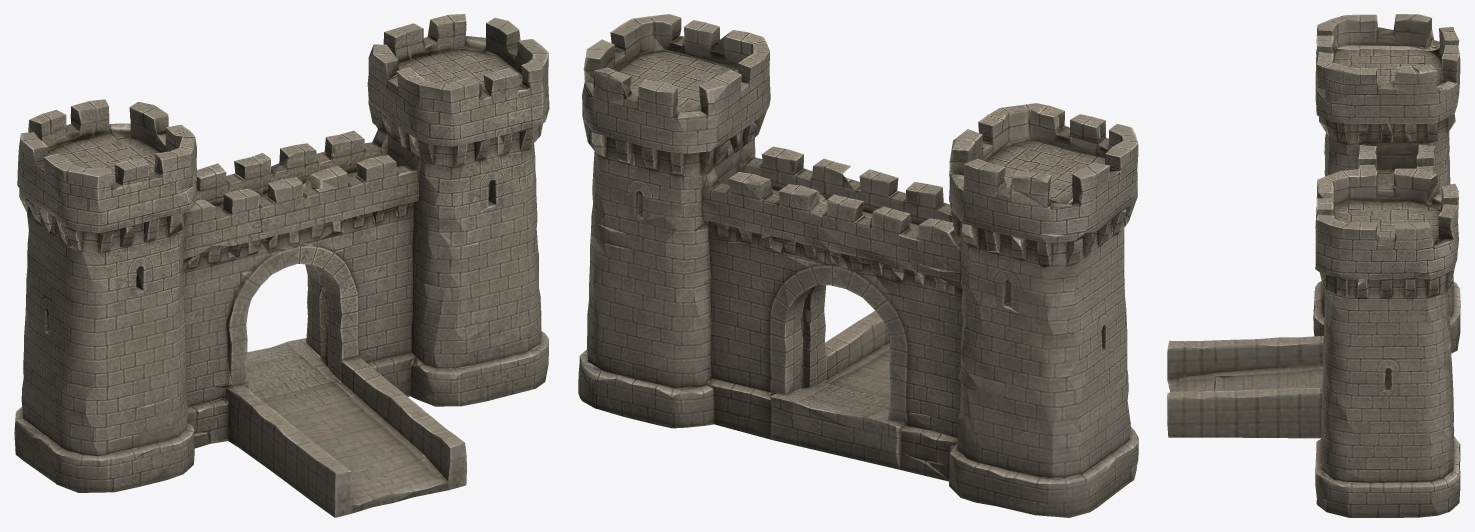
Rendered from inner_gate.glb.
3 views of the same model, side by side, from view 1: azimuth 30°, elevation 25°; view 2: azimuth 150°, elevation 25°; view 3: azimuth 270°, elevation 25° (orthographic). The views are drawn at different scales.
Visible parts, largest first — view 1: output_unwrapped; view 2: output_unwrapped; view 3: output_unwrapped.
Boxes of the visible parts, x1,y1,x2,y2 form: output_unwrapped: (14, 14, 549, 517); output_unwrapped: (578, 14, 1138, 517); output_unwrapped: (1167, 14, 1460, 517).
Size of the model in its own units: 1.9 by 1.2 by 1.09.
1 material, 1 textured.
